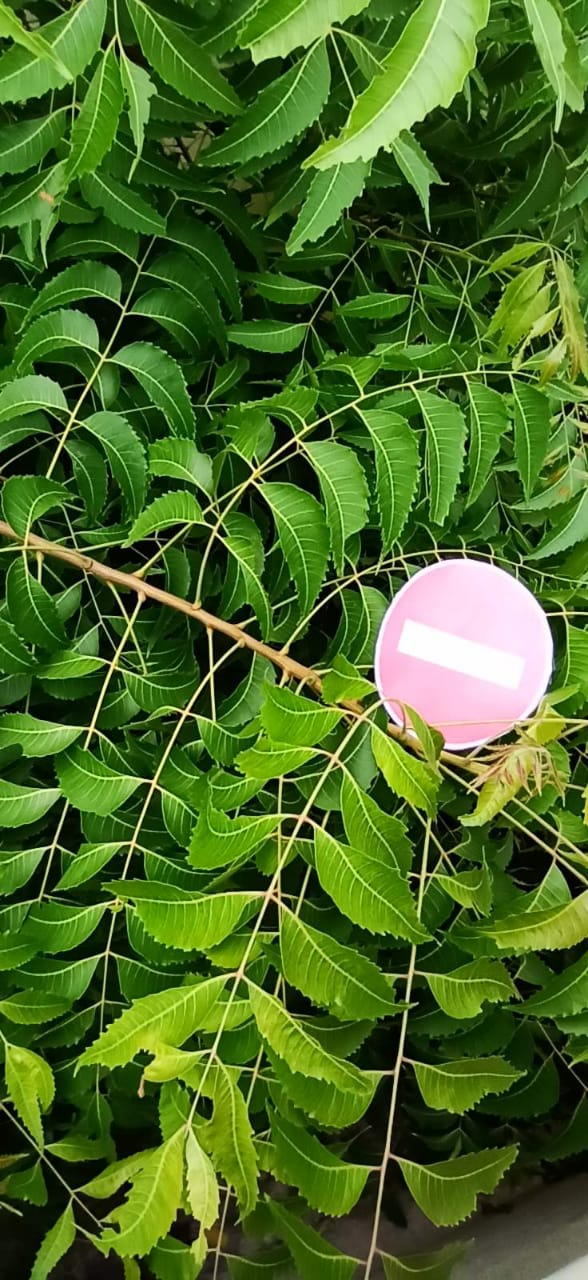NO ENTRY: (351, 544, 561, 768)
